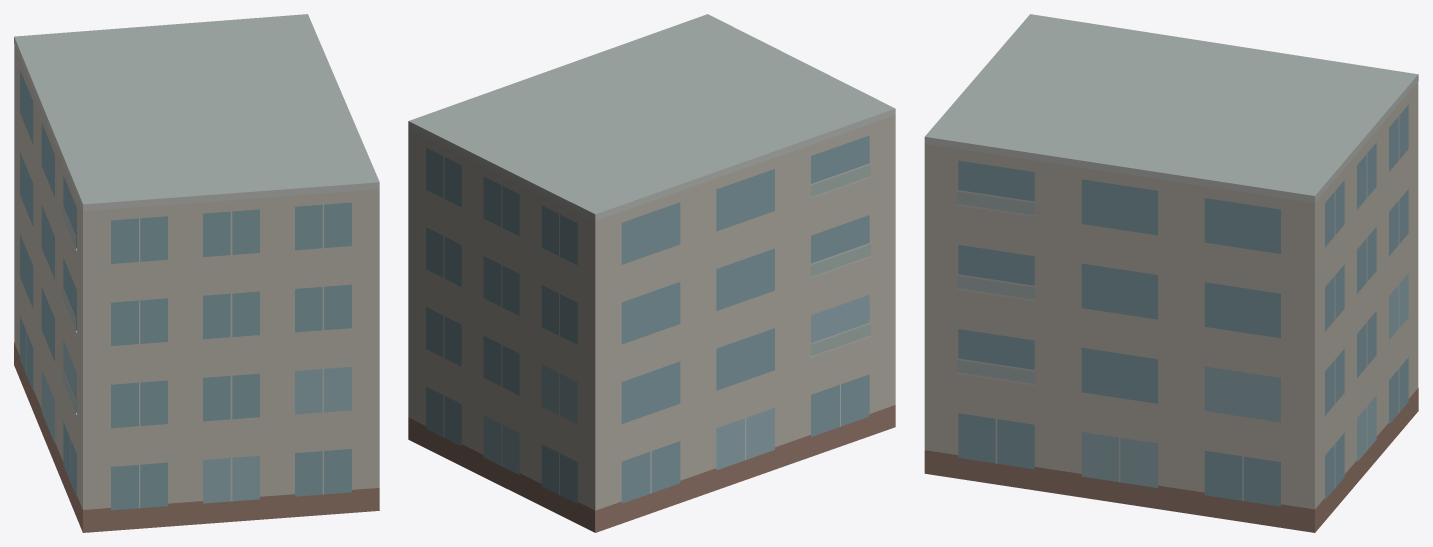
Rendered from survey-upis-33028331.glb.
The picture shows the model from 3 angles, left to right: view 1: azimuth 30°, elevation 25°; view 2: azimuth 150°, elevation 25°; view 3: azimuth 270°, elevation 25°; orthographic projection. The views are drawn at different scales.
Visible parts, largest first — view 1: survey-upis-33028331.tmp; view 2: survey-upis-33028331.tmp; view 3: survey-upis-33028331.tmp.
Boxes of the visible parts, <box> form: survey-upis-33028331.tmp: <box>14,14,379,532</box>; survey-upis-33028331.tmp: <box>408,14,895,532</box>; survey-upis-33028331.tmp: <box>924,14,1418,532</box>.
Size of the model in its own units: 13.73 by 11.84 by 15.74.
